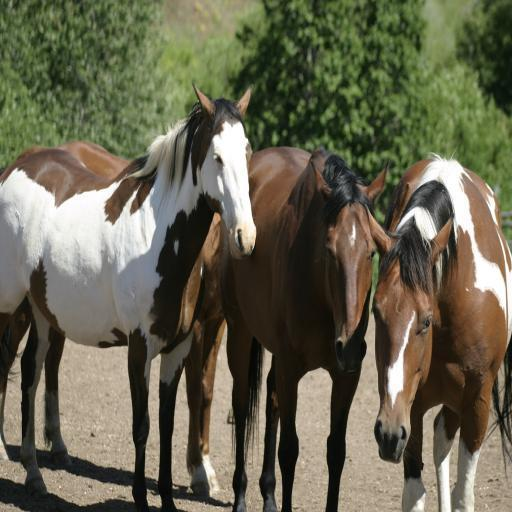horse: (0, 78, 258, 512), (0, 138, 222, 500), (219, 146, 392, 512), (364, 141, 512, 512)
